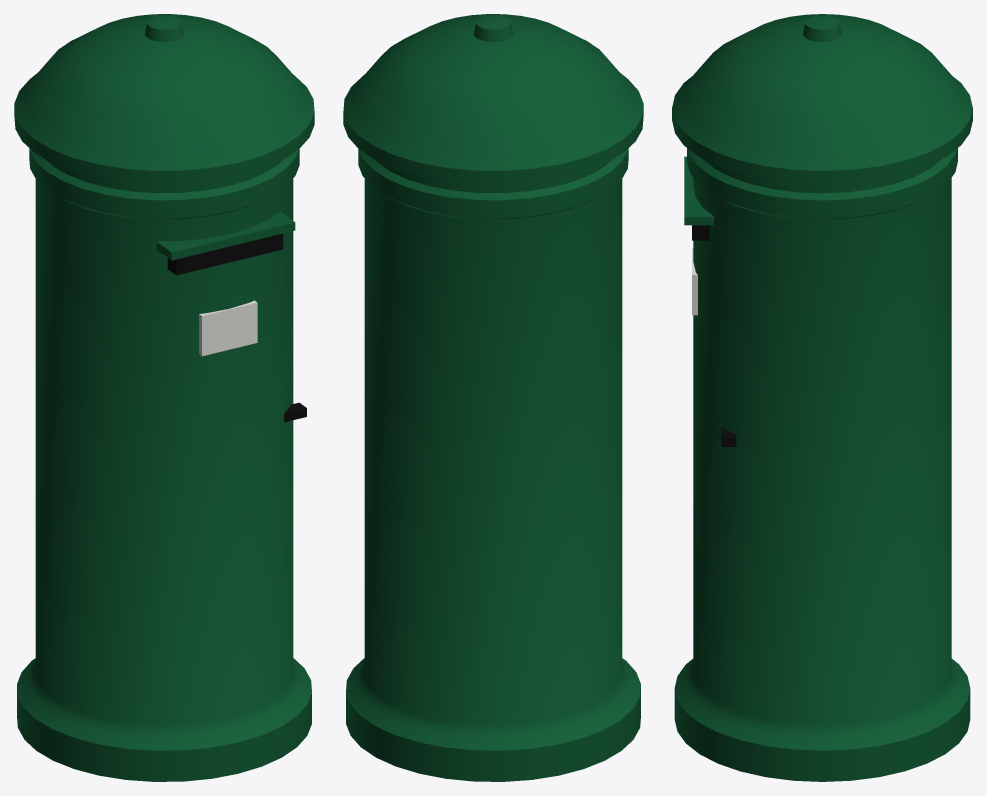
The model's file is post_box_pillar.glb.
3 renders of one model, left to right at view 1: azimuth 30°, elevation 25°; view 2: azimuth 150°, elevation 25°; view 3: azimuth 270°, elevation 25°, orthographic.
Parts seen in each view (by area): view 1: PostBox; view 2: PostBox; view 3: PostBox.
Part boxes in pixels (bbox=[...]): PostBox: bbox=[14, 14, 314, 781]; PostBox: bbox=[343, 14, 643, 781]; PostBox: bbox=[672, 14, 972, 781].
Bounding box in the file's own units: 0.61 × 1.57 × 0.61.
